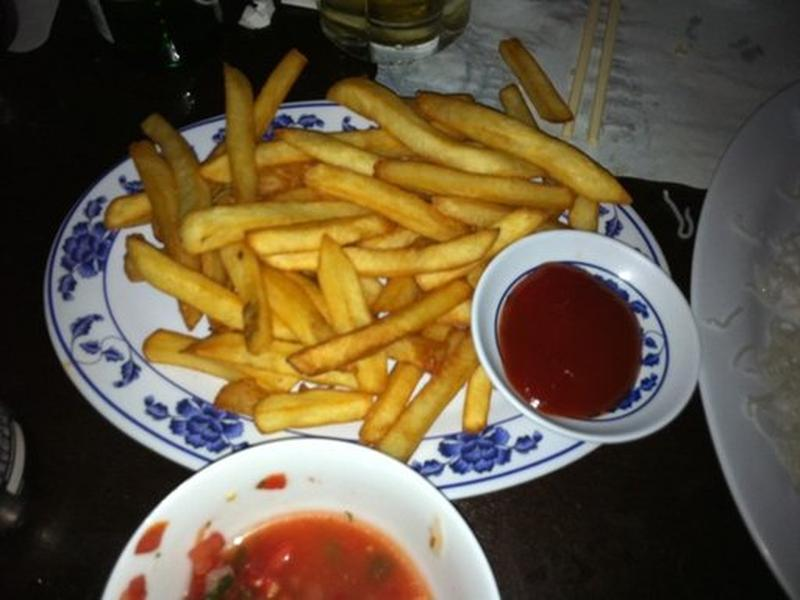french_fries: (105, 58, 618, 428)
